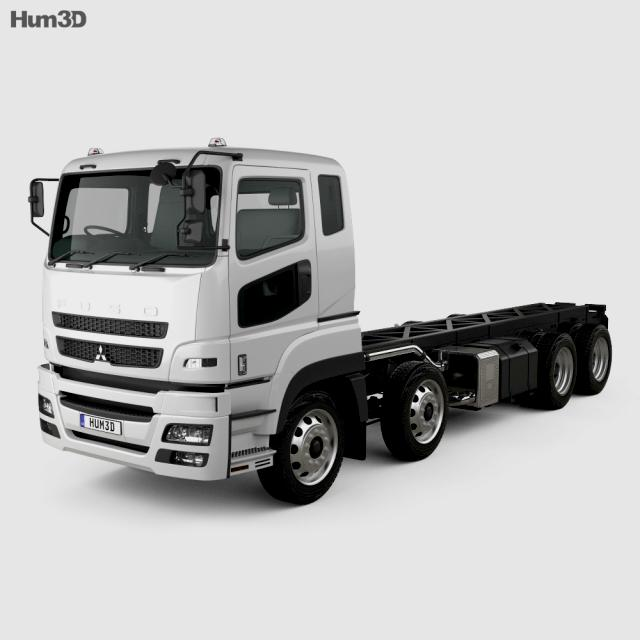truck: (27, 142, 614, 506)
